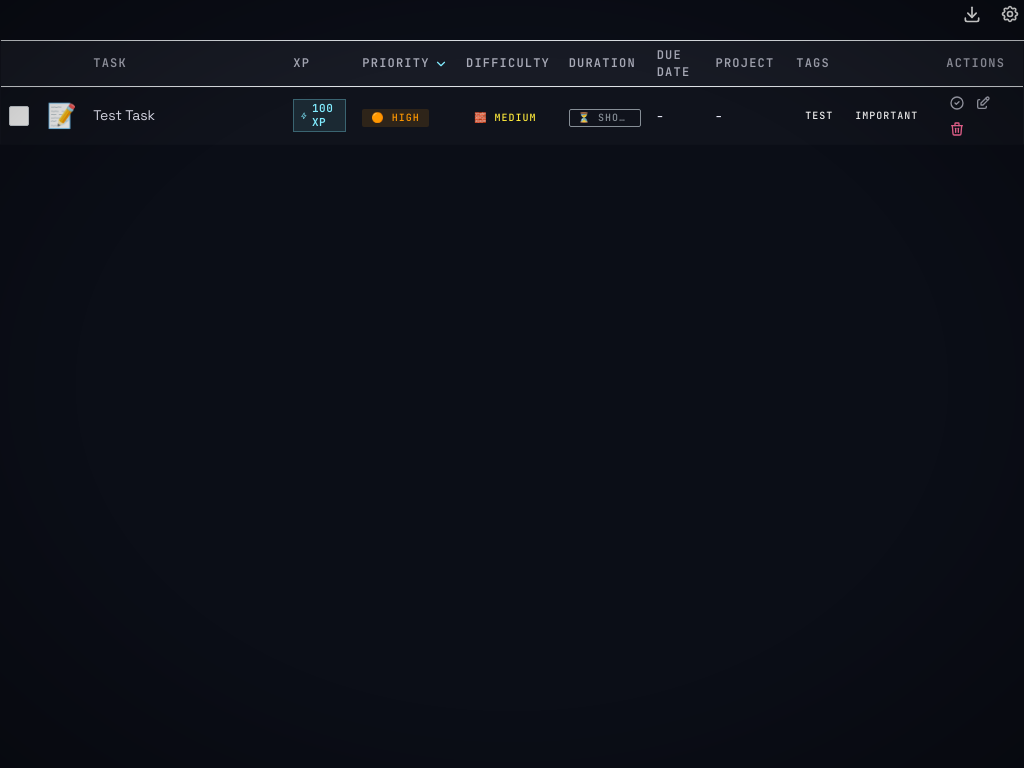
Test: TaskTable › opens column config dialog when settings button is clicked
Click the button named "configure columns": [1010, 14] box [996, 0, 1023, 28]
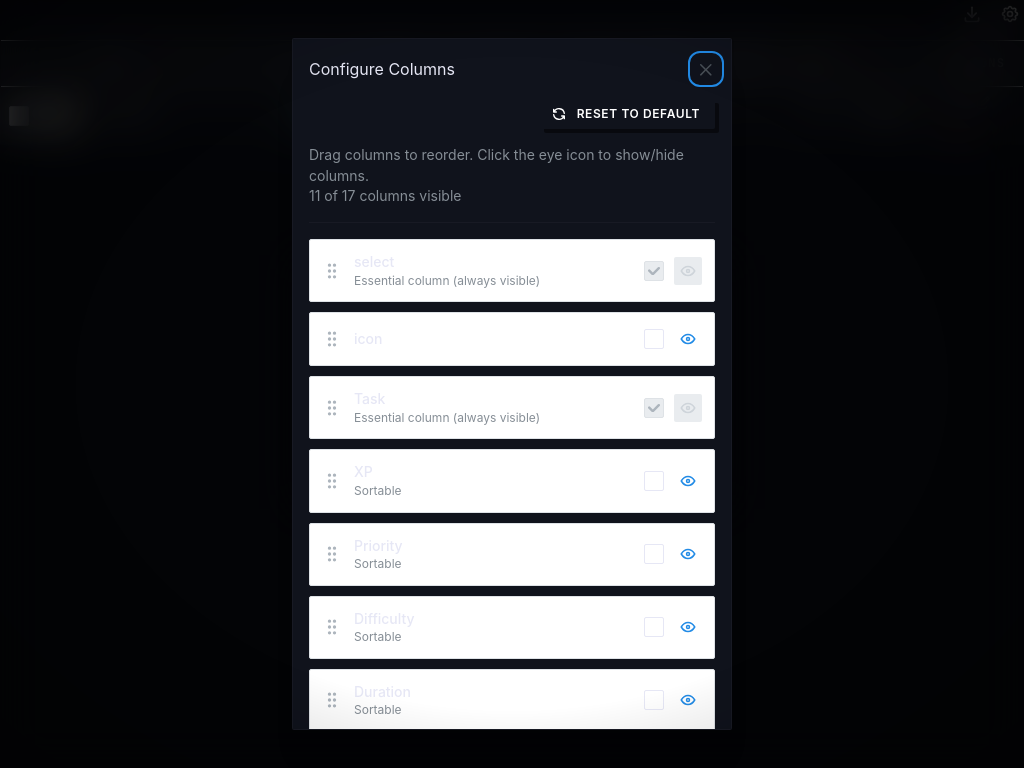
Now the heading "Configure Columns" is shown, box [309, 61, 455, 77]
